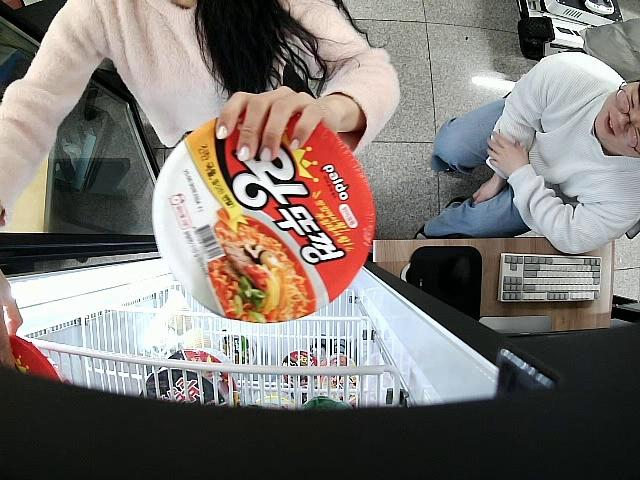00_hand: (215, 84, 326, 163), (486, 129, 530, 179)
10_wangTtukkeong: (152, 113, 373, 321)
